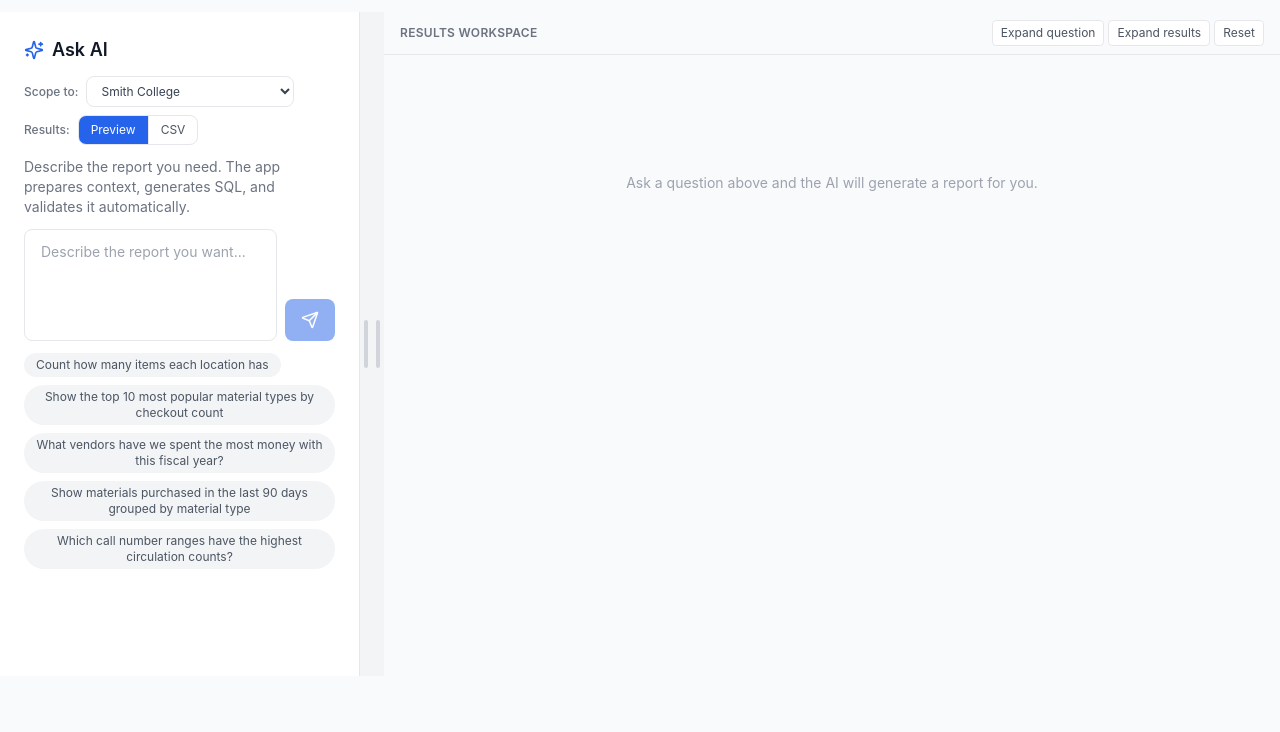
Test: Ask request lifecycle › silently continues to fresh generation when reuse lookup fails
This screenshot has width=1280, height=732.
Type "Show titles" into the text box with placeholder "Describe the report you want..." at (150, 285), box [24, 229, 277, 341]
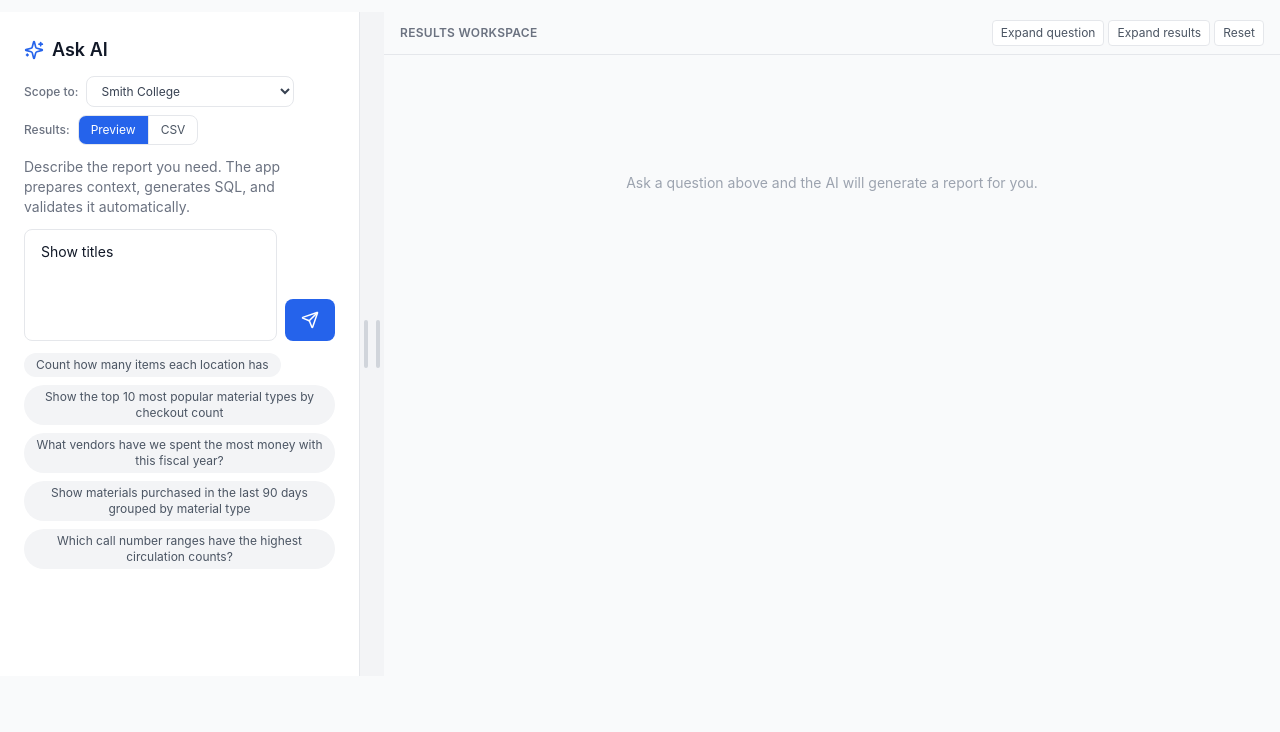
Press Enter in the text box with placeholder "Describe the report you want...", box [24, 229, 277, 341]
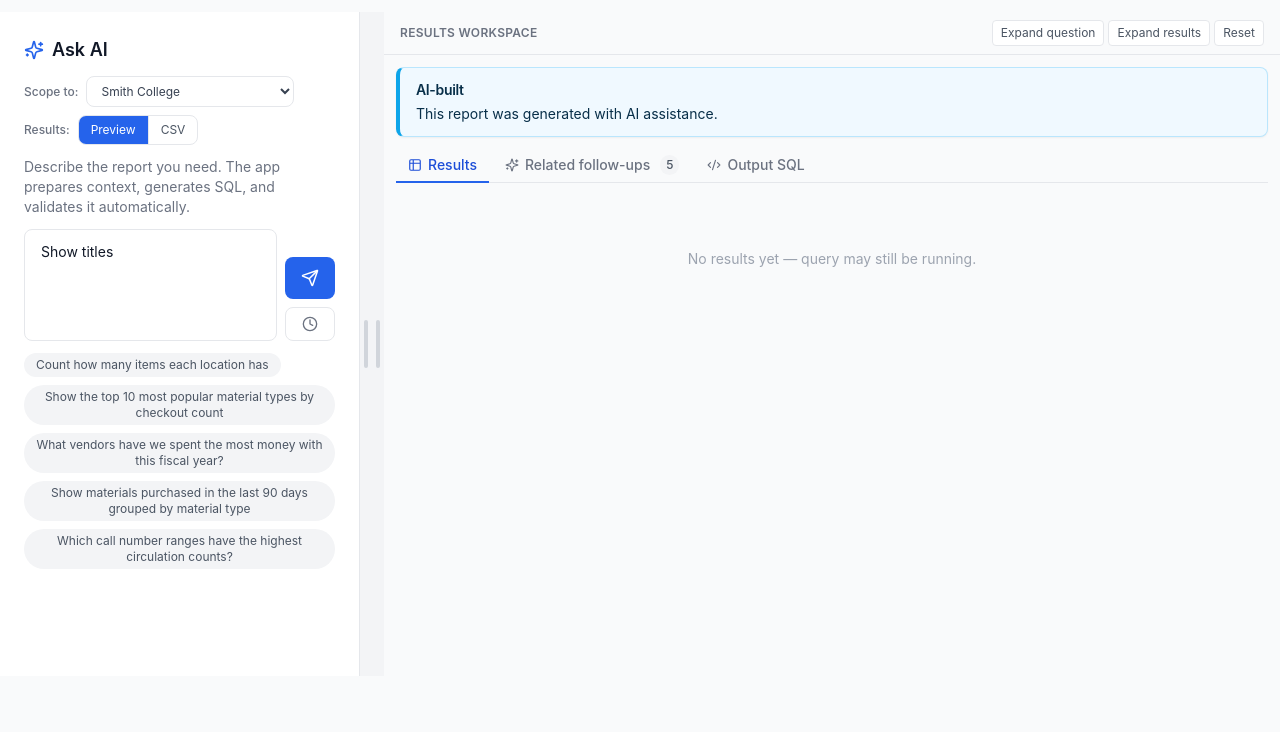
Check: the heading "AI-built" is shown, box [416, 81, 464, 98]
